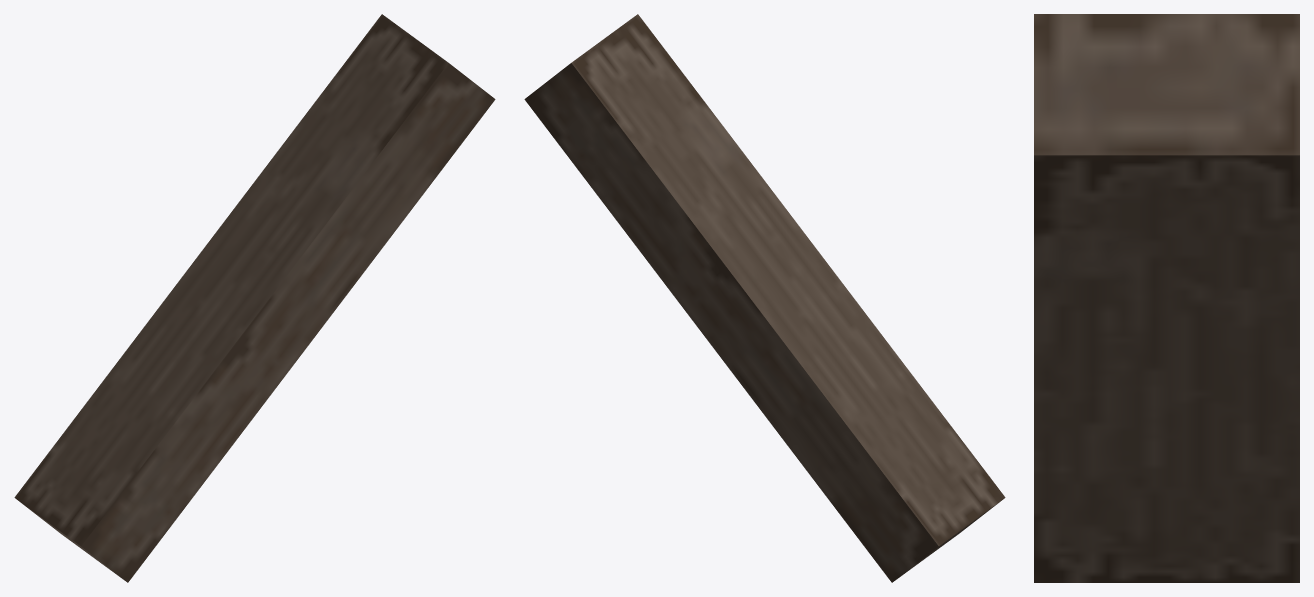
The model's file is SmallwoodPlank.fbx.
The picture shows the model from 3 angles, left to right: view 1: azimuth 30°, elevation 25°; view 2: azimuth 150°, elevation 25°; view 3: azimuth 270°, elevation 25°; orthographic projection. The views are drawn at different scales.
Visible parts, largest first — view 1: pCube2; view 2: pCube2; view 3: pCube2.
Boxes of the visible parts, x1,y1,x2,y2 form: pCube2: (14,14,495,582); pCube2: (524,14,1005,582); pCube2: (1034,14,1299,582).
Bounding box in the file's own units: 790 × 805 × 220.
1 material, 1 textured.
